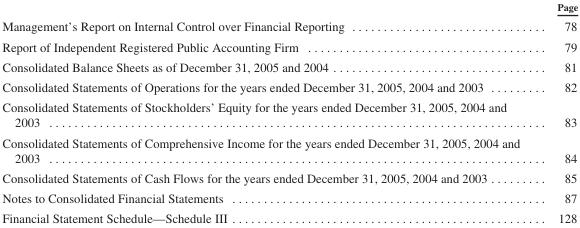table: (1, 0, 577, 225)
table column: (1, 0, 537, 225), (537, 0, 577, 225)
table column header: (1, 0, 577, 15)
table row: (1, 96, 577, 132), (1, 132, 577, 167), (1, 15, 577, 36), (1, 36, 577, 56), (1, 56, 577, 76), (1, 76, 577, 96), (1, 167, 577, 187), (1, 187, 577, 207), (1, 207, 577, 225), (1, 0, 577, 15)
